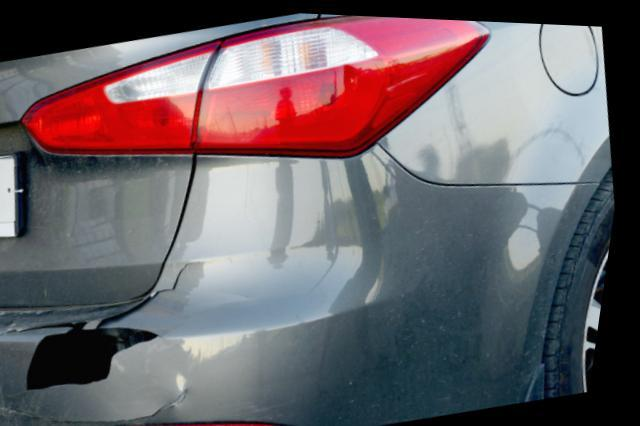crack: (0, 381, 210, 425)
no part: (6, 260, 198, 394)
